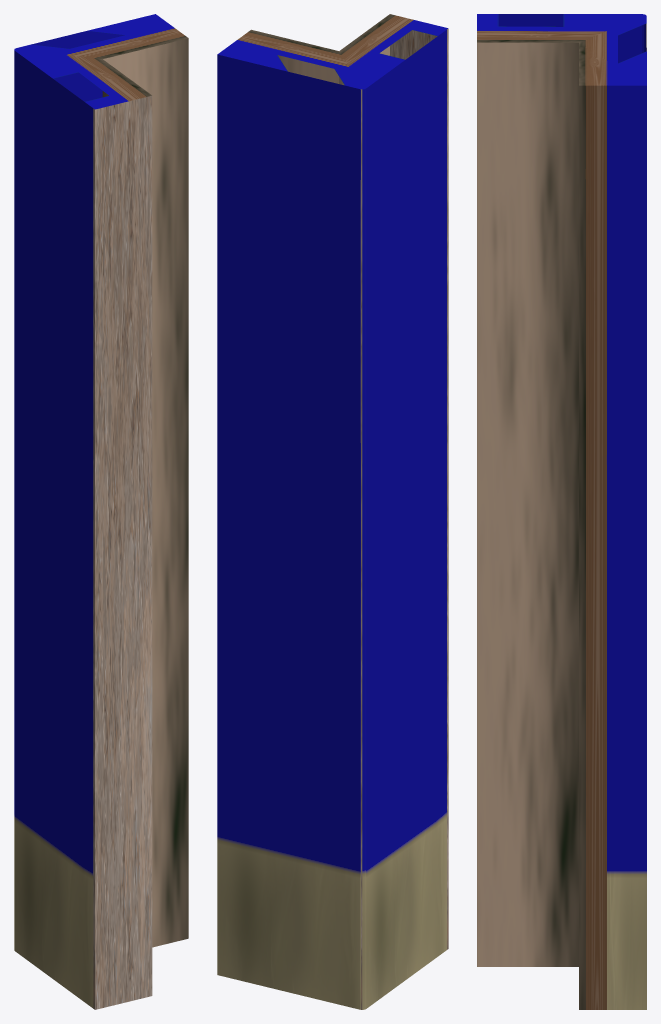
The model's file is cornerWall.fbx.
The picture shows the model from 3 angles, left to right: view 1: azimuth 30°, elevation 25°; view 2: azimuth 150°, elevation 25°; view 3: azimuth 270°, elevation 25°; orthographic projection. The views are drawn at different scales.
Visible parts, largest first — view 1: corner wall; view 2: corner wall; view 3: corner wall.
Part boxes in pixels (x1,y1,x2,y2): corner wall: (14, 14, 188, 1009); corner wall: (217, 14, 448, 1009); corner wall: (477, 14, 646, 1009).
Bounding box in the file's own units: 50 × 300 × 50.
